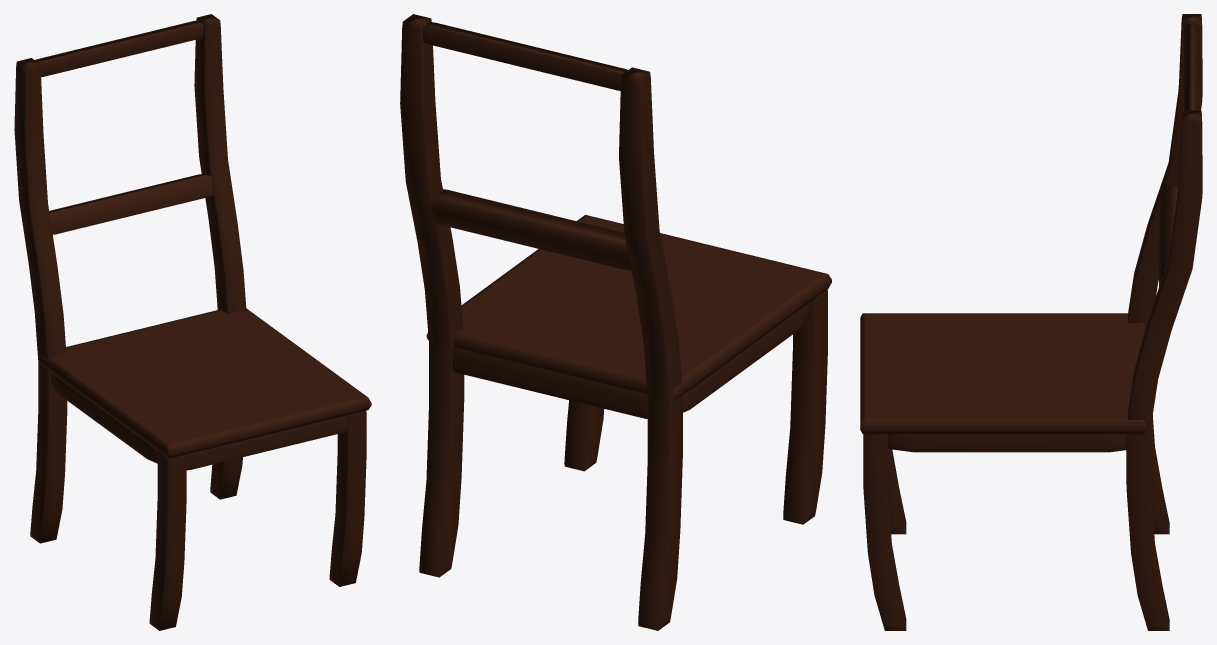
The model's file is chair 2.fbx.
3 renders of one model, left to right at view 1: azimuth 30°, elevation 25°; view 2: azimuth 150°, elevation 25°; view 3: azimuth 270°, elevation 25°, orthographic. The views are drawn at different scales.
Visible parts, largest first — view 1: Cube; view 2: Cube; view 3: Cube.
Part boxes in pixels (box(x1,y1,x2,y2)): Cube: box(14, 14, 371, 630); Cube: box(400, 14, 831, 630); Cube: box(860, 14, 1202, 630).
Size of the model in its own units: 244 by 323 by 532.
